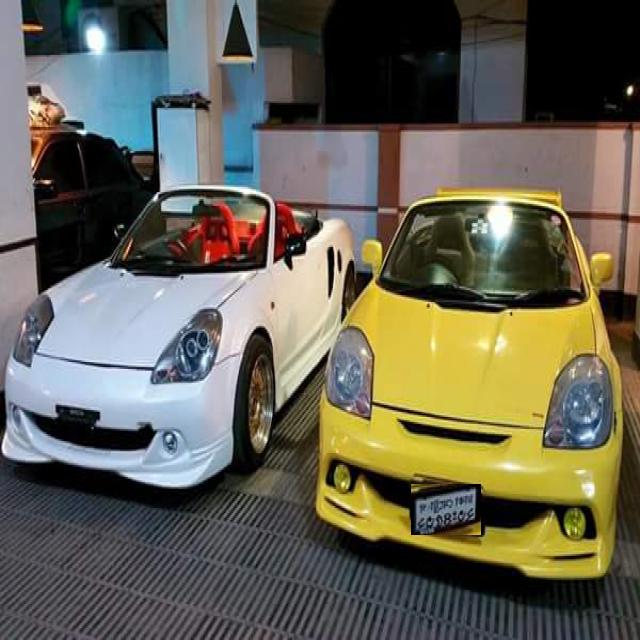numberplate: (411, 484, 481, 535)
